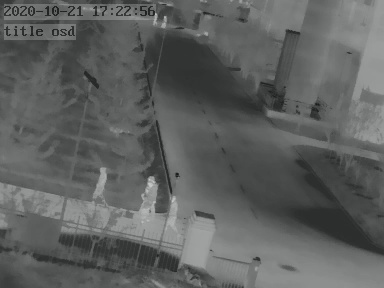person: (137, 177, 155, 222), (91, 166, 107, 207), (166, 196, 177, 230), (151, 10, 158, 26), (161, 14, 167, 30)
